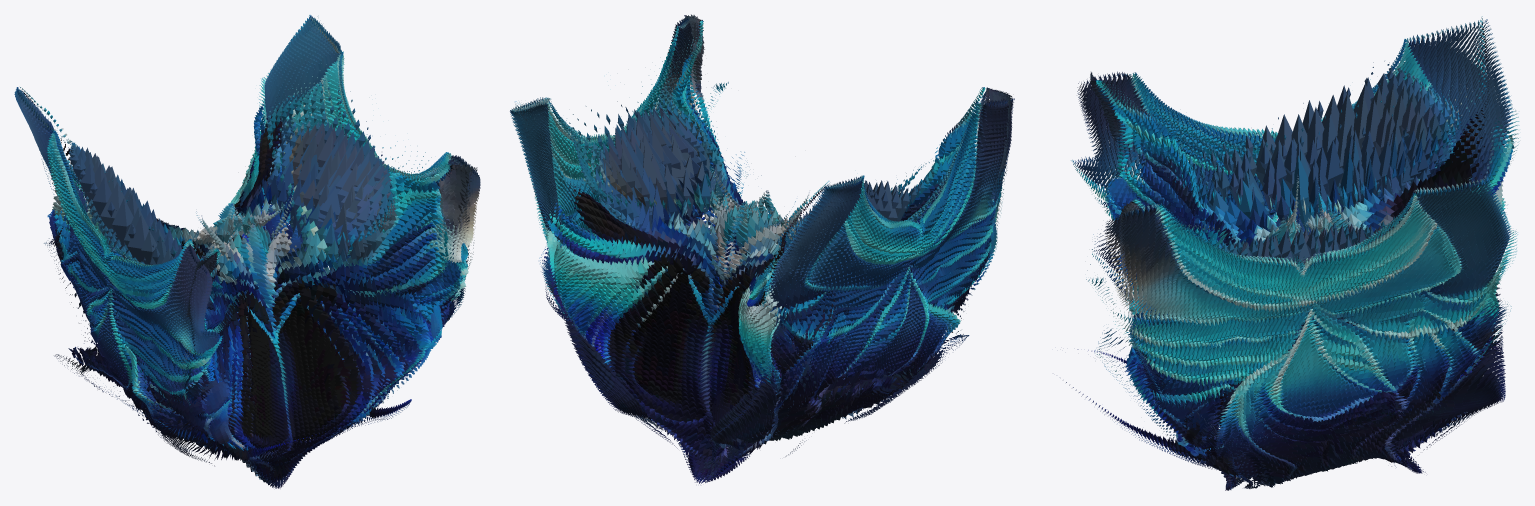
The model's file is BlueVamp.glb.
The picture shows the model from 3 angles, left to right: view 1: azimuth 30°, elevation 25°; view 2: azimuth 150°, elevation 25°; view 3: azimuth 270°, elevation 25°; orthographic projection. The views are drawn at different scales.
Parts seen in each view (by area): view 1: BlueVamp; view 2: BlueVamp; view 3: BlueVamp.
Boxes of the visible parts, <box> form: BlueVamp: <box>14,15,480,488</box>; BlueVamp: <box>510,14,1014,483</box>; BlueVamp: <box>1066,16,1519,490</box>.
Bounding box in the file's own units: 0.9625 × 0.9419 × 1.02.
